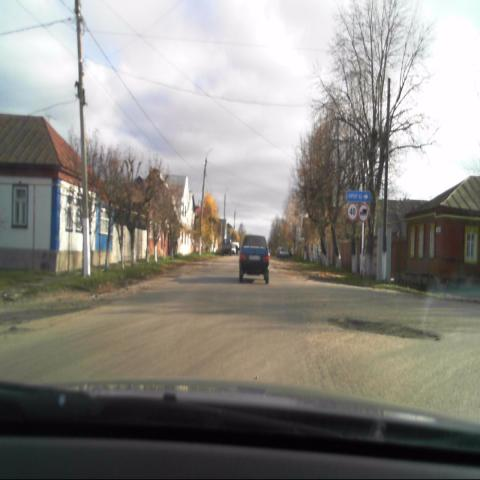3_24: (348, 204, 358, 222)
3_4_1: (359, 203, 369, 220)
